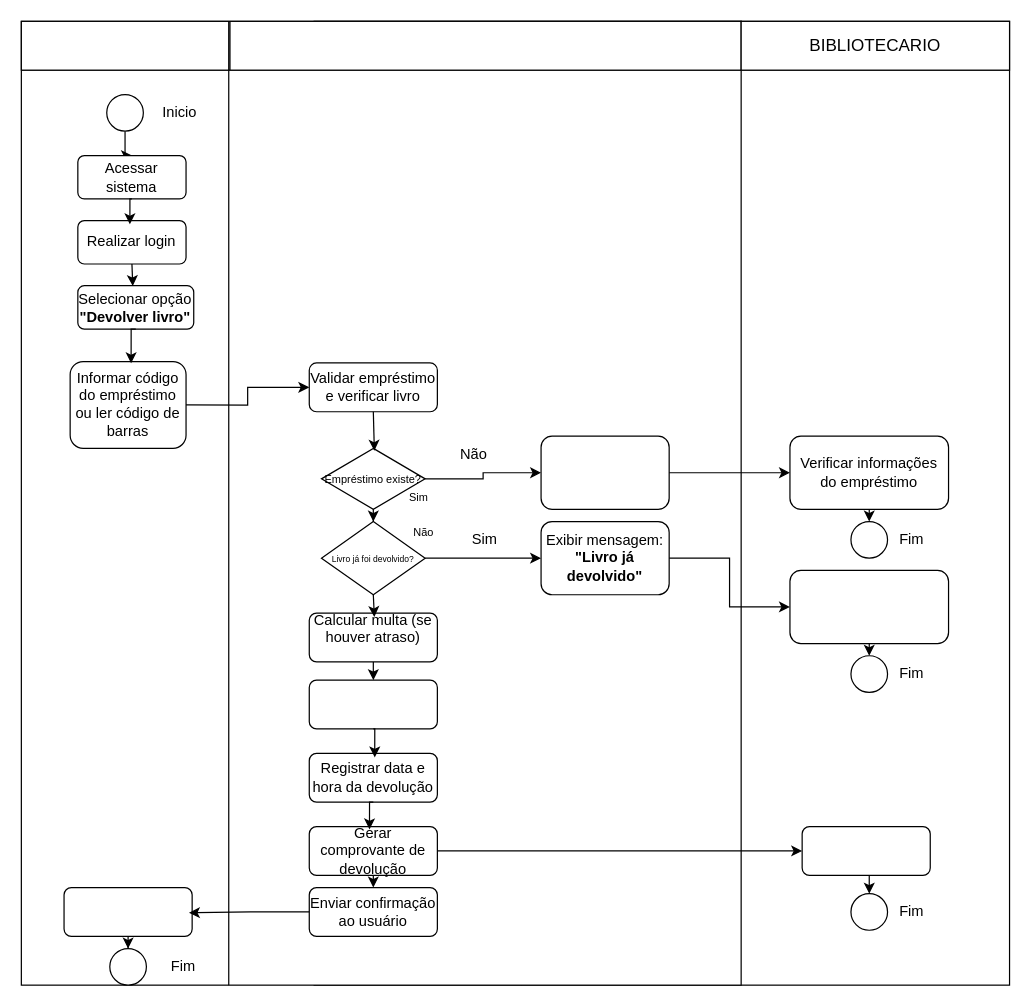
Some shapes in this 1031 by 1007 pixel diagram are drawn without their labels. Here are the shapes that lost their labels. From the top down, the box of each, then its label:
(20, 20, 229, 70): USUARIO
(229, 20, 741, 70): SISTEMA
(540, 435, 669, 509): Exibir mensagem: "Empréstimo não encontrado"
(789, 569, 949, 644): Confirmar situação com o usuário
(308, 679, 437, 729): Atualizar status do empréstimo para devolvido
(801, 825, 930, 875): Entregar livro e conferir estado
(63, 886, 192, 936): Receber confirmação da devolução
